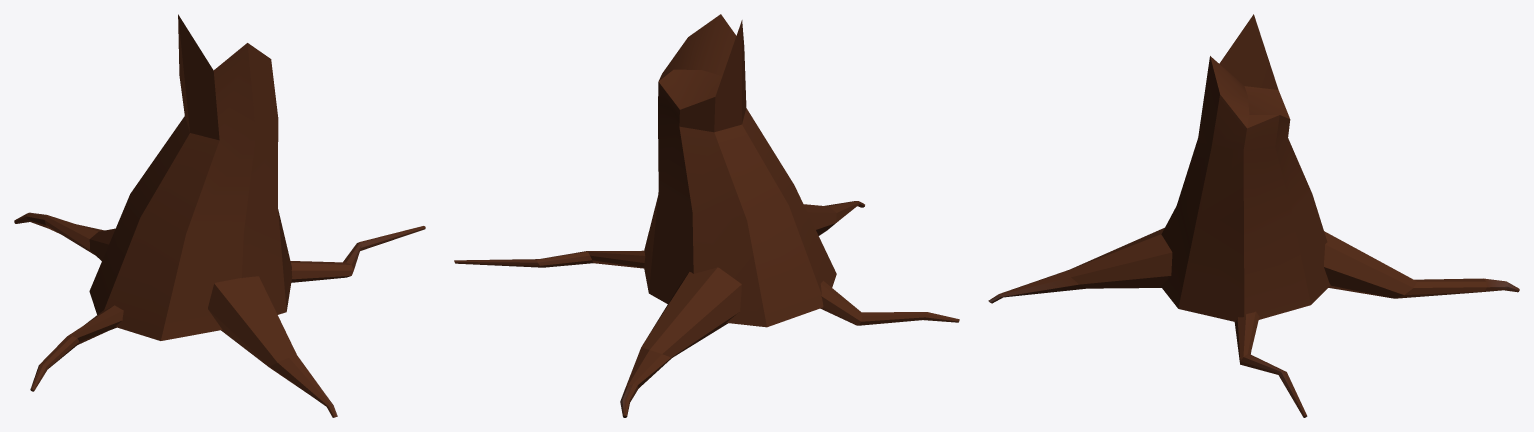
The model's file is BrokenTreeBotton.fbx.
The picture shows the model from 3 angles, left to right: view 1: azimuth 30°, elevation 25°; view 2: azimuth 150°, elevation 25°; view 3: azimuth 270°, elevation 25°; orthographic projection. The views are drawn at different scales.
Parts seen in each view (by area): view 1: TreeBrokenBot; view 2: TreeBrokenBot; view 3: TreeBrokenBot.
Boxes of the visible parts, x1,y1,x2,y2 form: TreeBrokenBot: [14, 14, 425, 417]; TreeBrokenBot: [454, 14, 959, 417]; TreeBrokenBot: [988, 14, 1519, 417].
Size of the model in its own units: 547 by 350 by 587.
